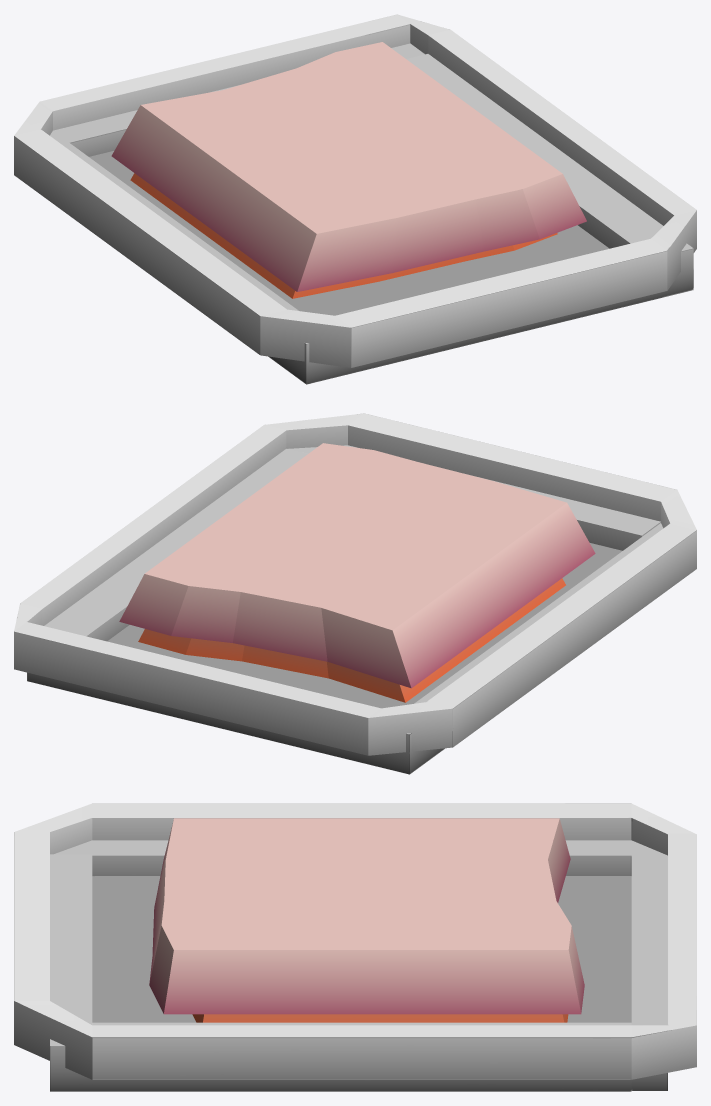
File: Pork.glb
3 views of the same model, one above another, from view 1: azimuth 30°, elevation 25°; view 2: azimuth 150°, elevation 25°; view 3: azimuth 270°, elevation 25° (orthographic). The views are drawn at different scales.
Parts seen in each view (by area): view 1: Cube, Plane, Plane.001; view 2: Cube, Plane, Plane.001; view 3: Cube, Plane, Plane.001.
Boxes of the visible parts, x1,y1,x2,y2 form: Cube: (14, 14, 696, 384); Plane: (111, 42, 586, 291); Plane.001: (130, 173, 557, 298); Cube: (14, 413, 696, 774); Plane: (119, 443, 595, 688); Plane.001: (138, 578, 565, 702); Cube: (14, 803, 696, 1091); Plane: (149, 818, 584, 1014); Plane.001: (192, 1014, 568, 1022).
Bounding box in the file's own units: 2.05 × 0.4168 × 2.53.
3 materials, 3 textured.
